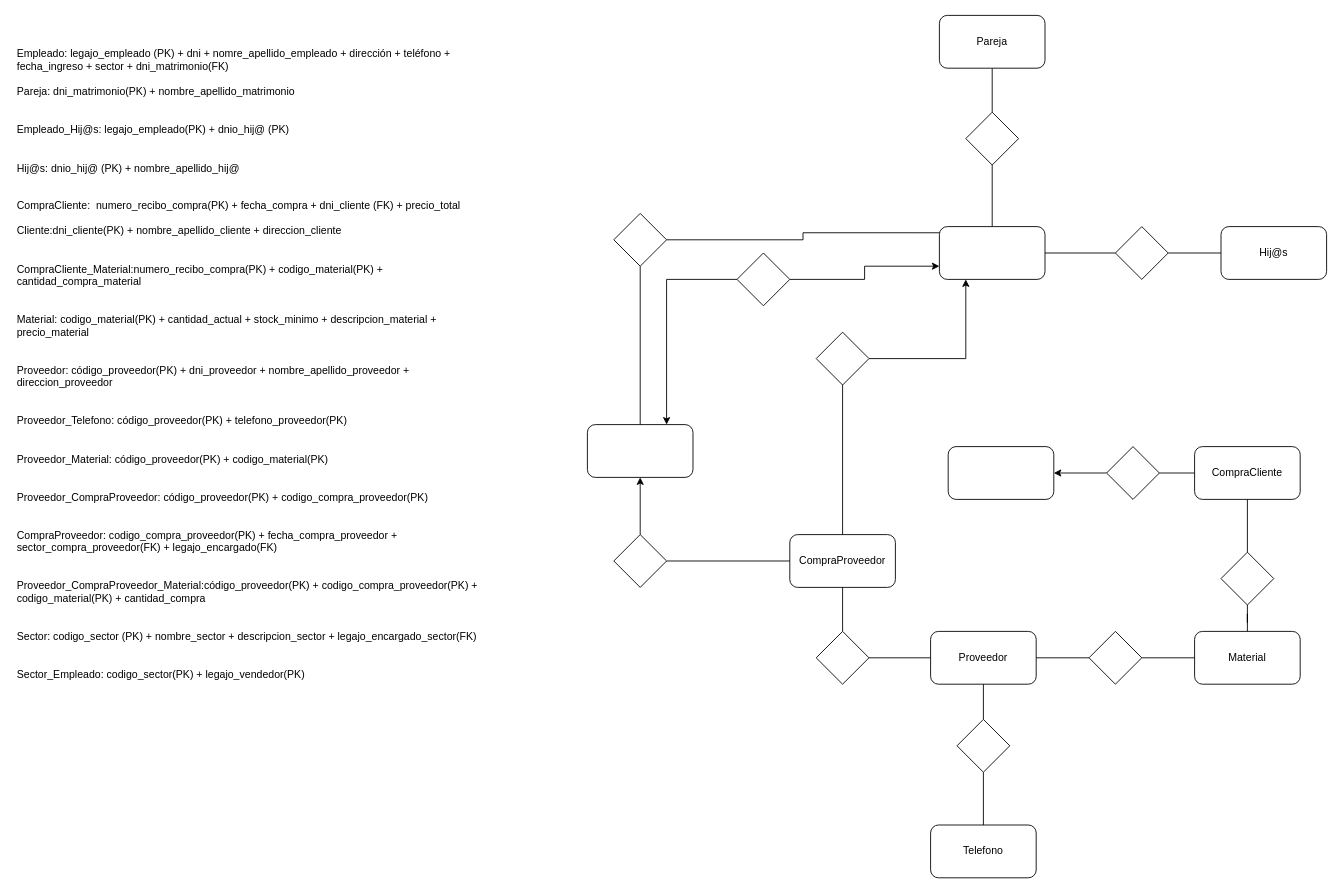
Some shapes in this 1342 by 893 pixel diagram are drawn without their labels. The shapes that lost their labels are listed below. From the top down, each one's box as (x1, y1, x2, y2) in pixels, then its label:
(939, 226, 1045, 279): Empleado
(587, 424, 693, 477): Sector
(947, 446, 1054, 499): Cliente
